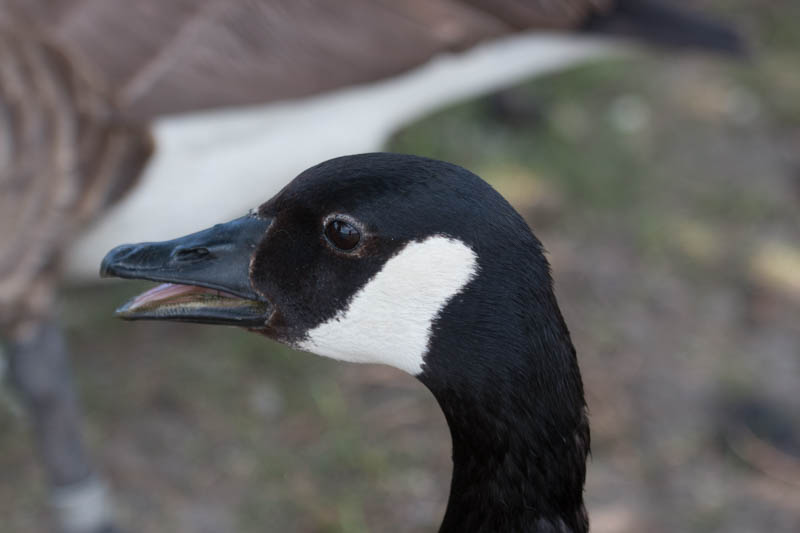goose-head: (99, 153, 579, 381)
